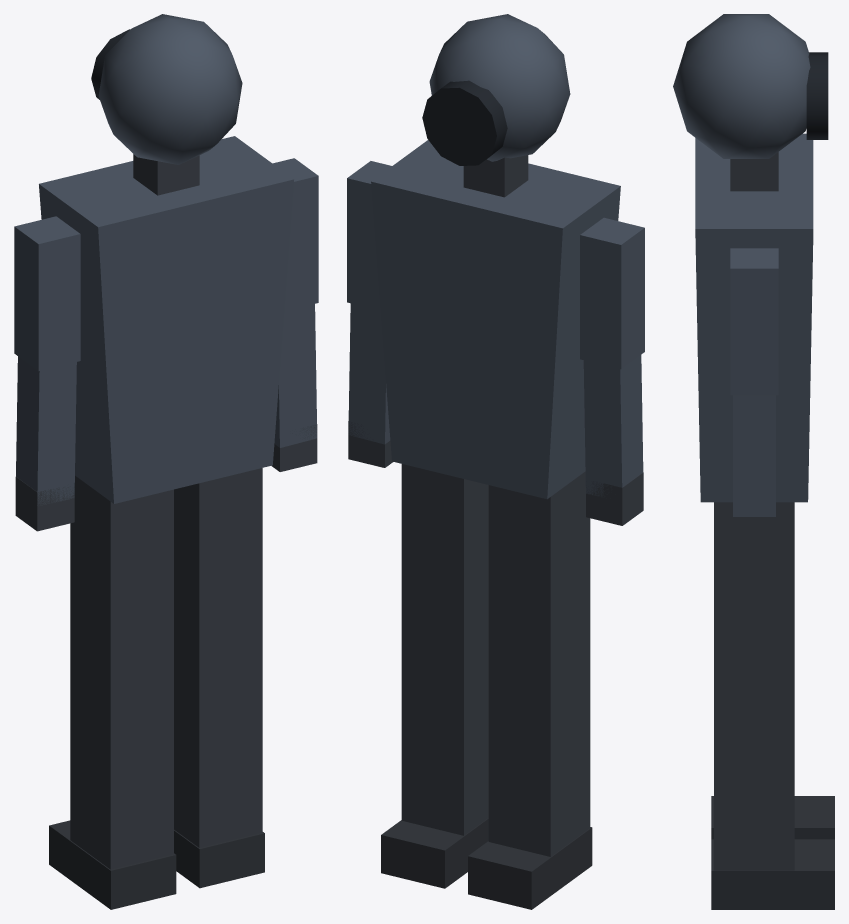
File: anon.glb
The picture shows the model from 3 angles, left to right: view 1: azimuth 30°, elevation 25°; view 2: azimuth 150°, elevation 25°; view 3: azimuth 270°, elevation 25°; orthographic projection. The views are drawn at different scales.
Visible parts, largest first — view 1: Body, LegL, LegR; view 2: Body, LegL, LegR; view 3: Body, LegR, LegL.
Boxes of the visible parts, left/top/right/bottom form: Body: left=14, top=14, right=318, bottom=531; LegL: left=49, top=476, right=176, bottom=909; LegR: left=174, top=468, right=264, bottom=888; Body: left=347, top=14, right=644, bottom=525; LegL: left=468, top=471, right=592, bottom=909; LegR: left=381, top=464, right=488, bottom=888; Body: left=673, top=14, right=828, bottom=555; LegR: left=711, top=502, right=834, bottom=909; LegL: left=711, top=796, right=834, bottom=839.
Bounding box in the file's own units: 0.6 × 1.76 × 0.3015.
